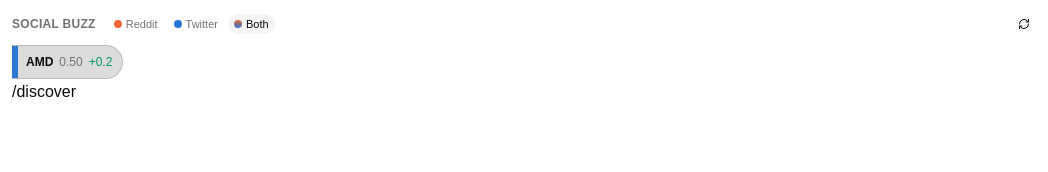
Test: a ticker only on Twitter opens the stock page Social tab on that platform
Click the button "AMD 0.50 +0.2" at (67, 62), box [12,46,122,78]
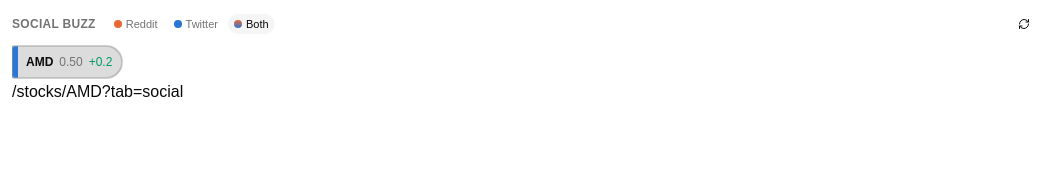
Result: the text named "Current location" reads "/stocks/AMD?tab=social" at [12,83,183,100]
